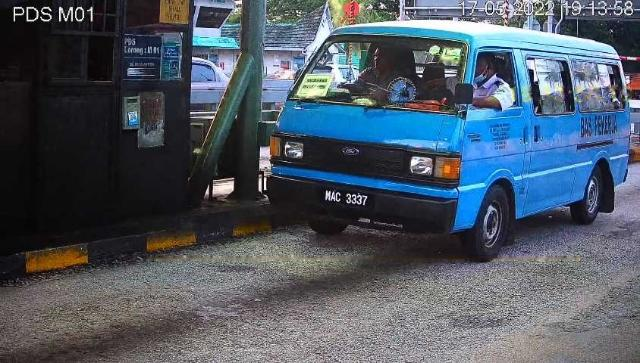License_Plate: (320, 191, 375, 212)
van: (268, 21, 632, 264)
